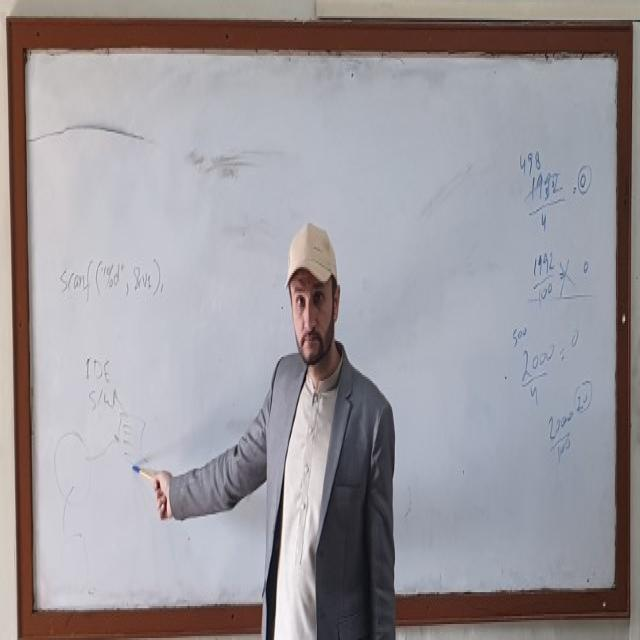Instructor: (262, 205, 396, 640)
White-board: (16, 30, 624, 628)
